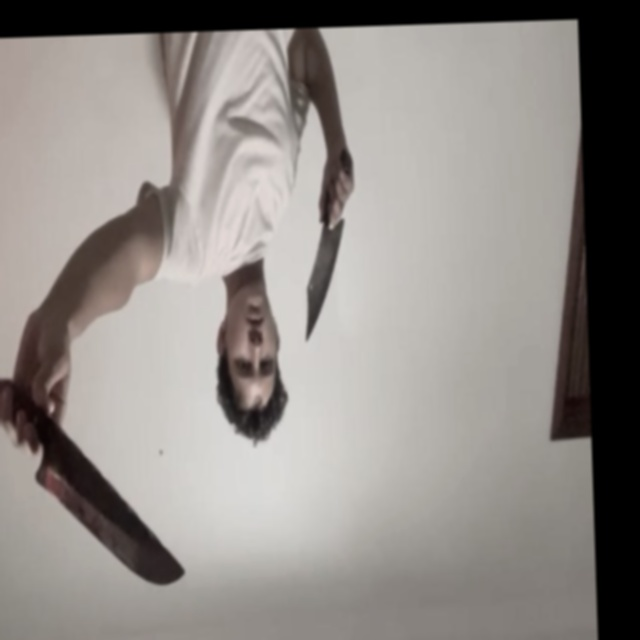Sharp-Object: (35, 443, 185, 589), (301, 221, 347, 342)
